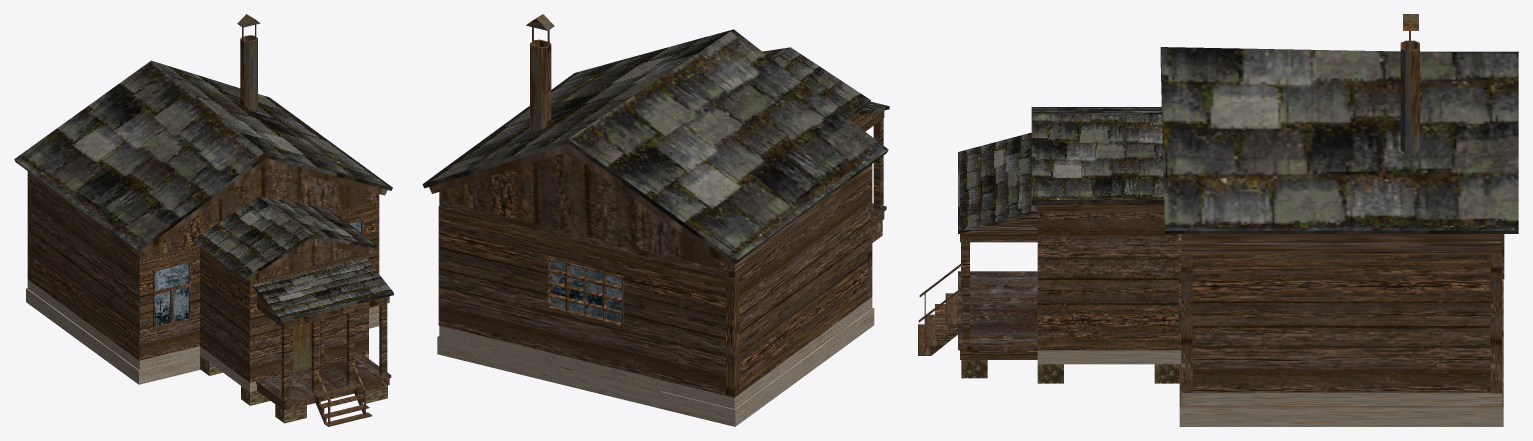
Rendered from Cabin_Textured (1).fbx.
3 renders of one model, left to right at view 1: azimuth 30°, elevation 25°; view 2: azimuth 150°, elevation 25°; view 3: azimuth 270°, elevation 25°, orthographic. The views are drawn at different scales.
Parts seen in each view (by area): view 1: Cabin_01, Cabin_02_Door; view 2: Cabin_01; view 3: Cabin_01.
Boxes of the visible parts, x1,y1,x2,y2 form: Cabin_01: (14,14,393,426); Cabin_02_Door: (293,320,320,371); Cabin_01: (422,14,889,426); Cabin_01: (918,14,1518,426).
Bounding box in the file's own units: 81529 × 80388 × 115837.
